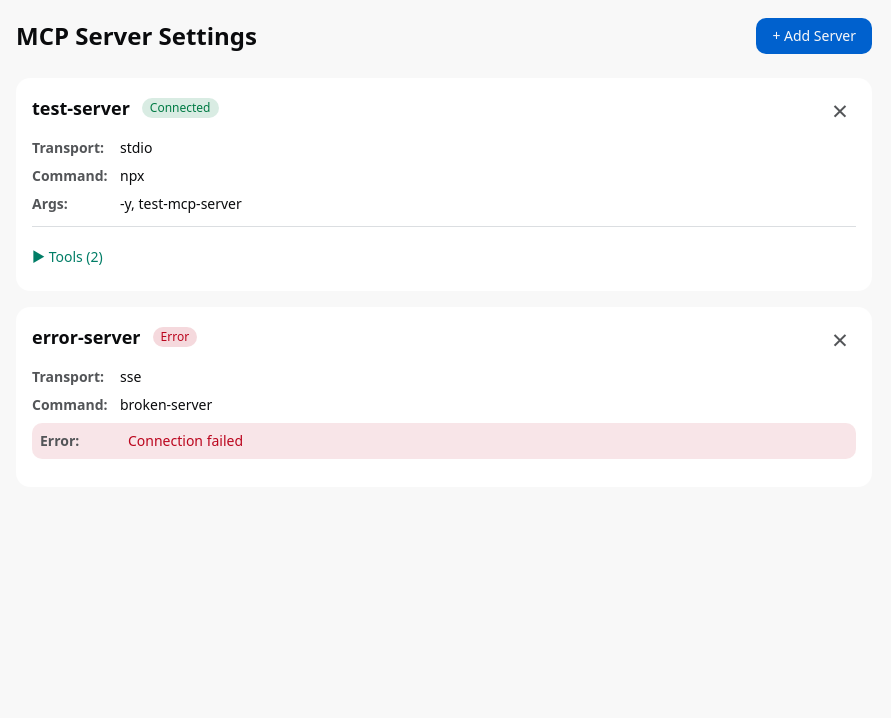
Test: MCPSettings › adding servers › should disable submit button while submitting
Click the button "+ Add Server": point(814, 36) [756,18,872,54]
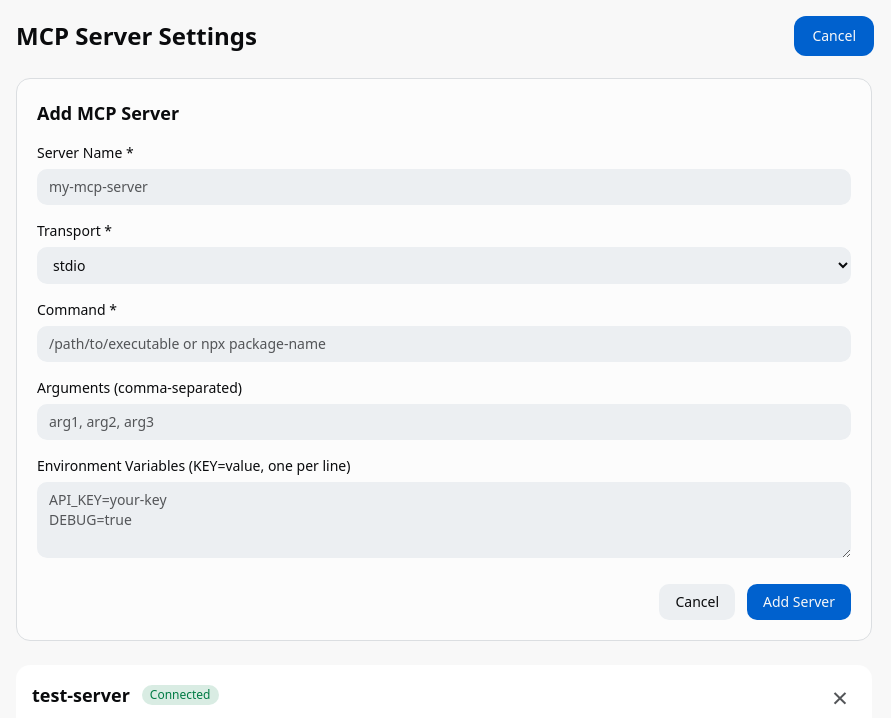
In the field labelled "Server Name *": point(444, 187) [37,169,851,205], type "test"
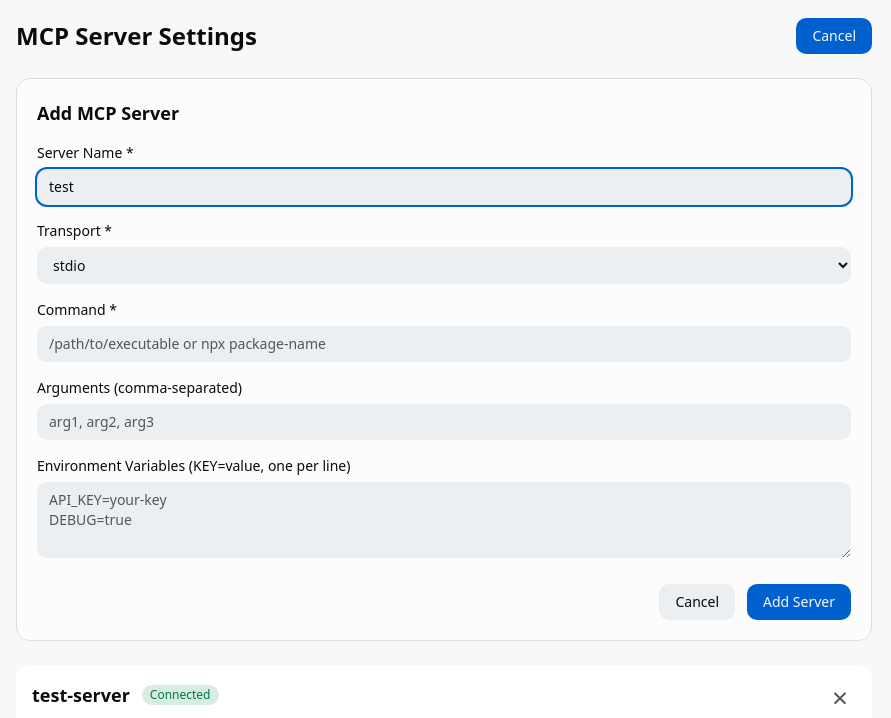
In the field labelled "Command *": point(444, 344) [37,326,851,362], type "cmd"
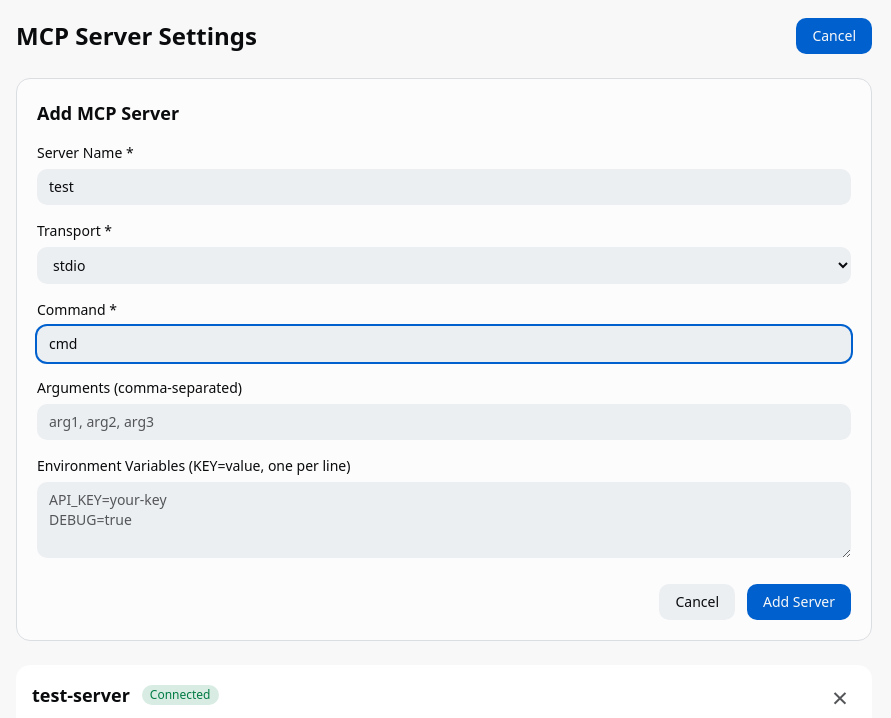
Click the button "Add Server": point(799, 602) [747,584,851,620]
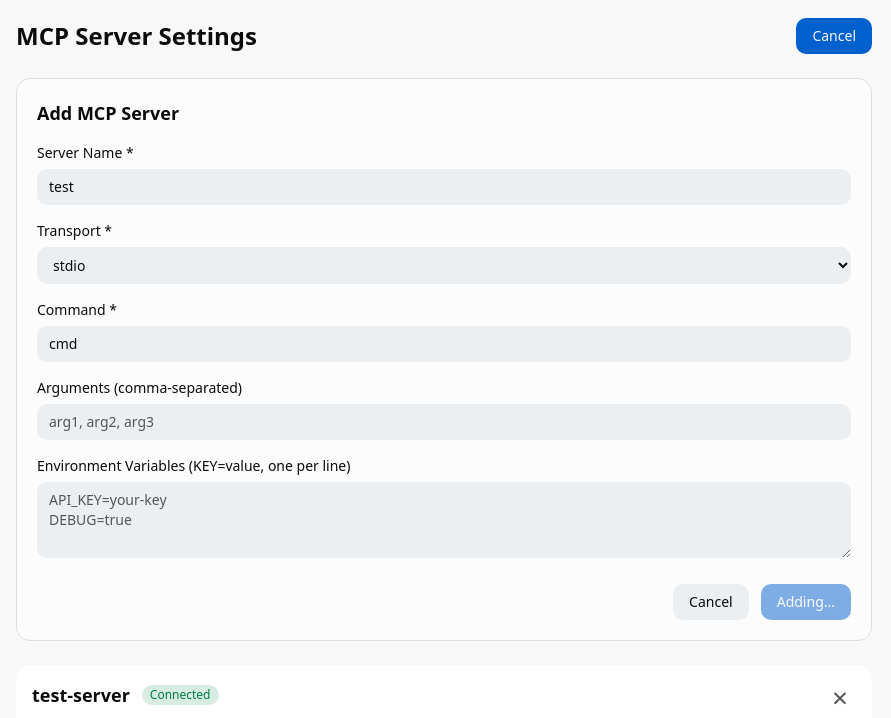
Check: the button "Adding..." is disabled, box [761,584,851,620]
